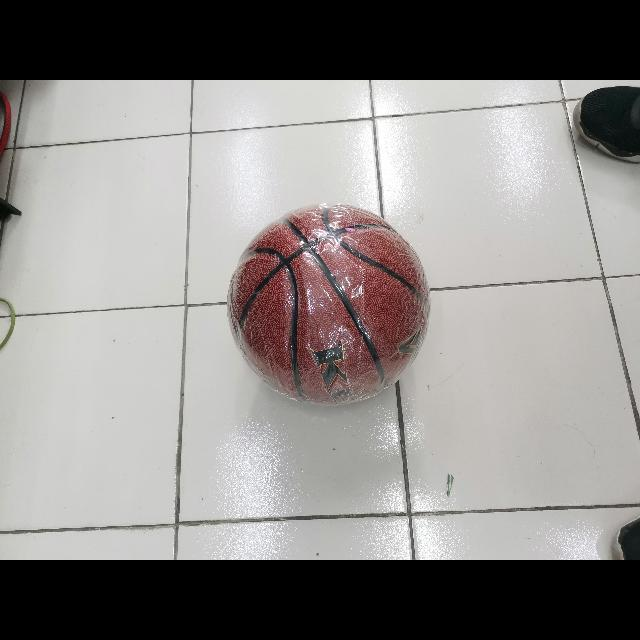basketball: (231, 206, 429, 402)
